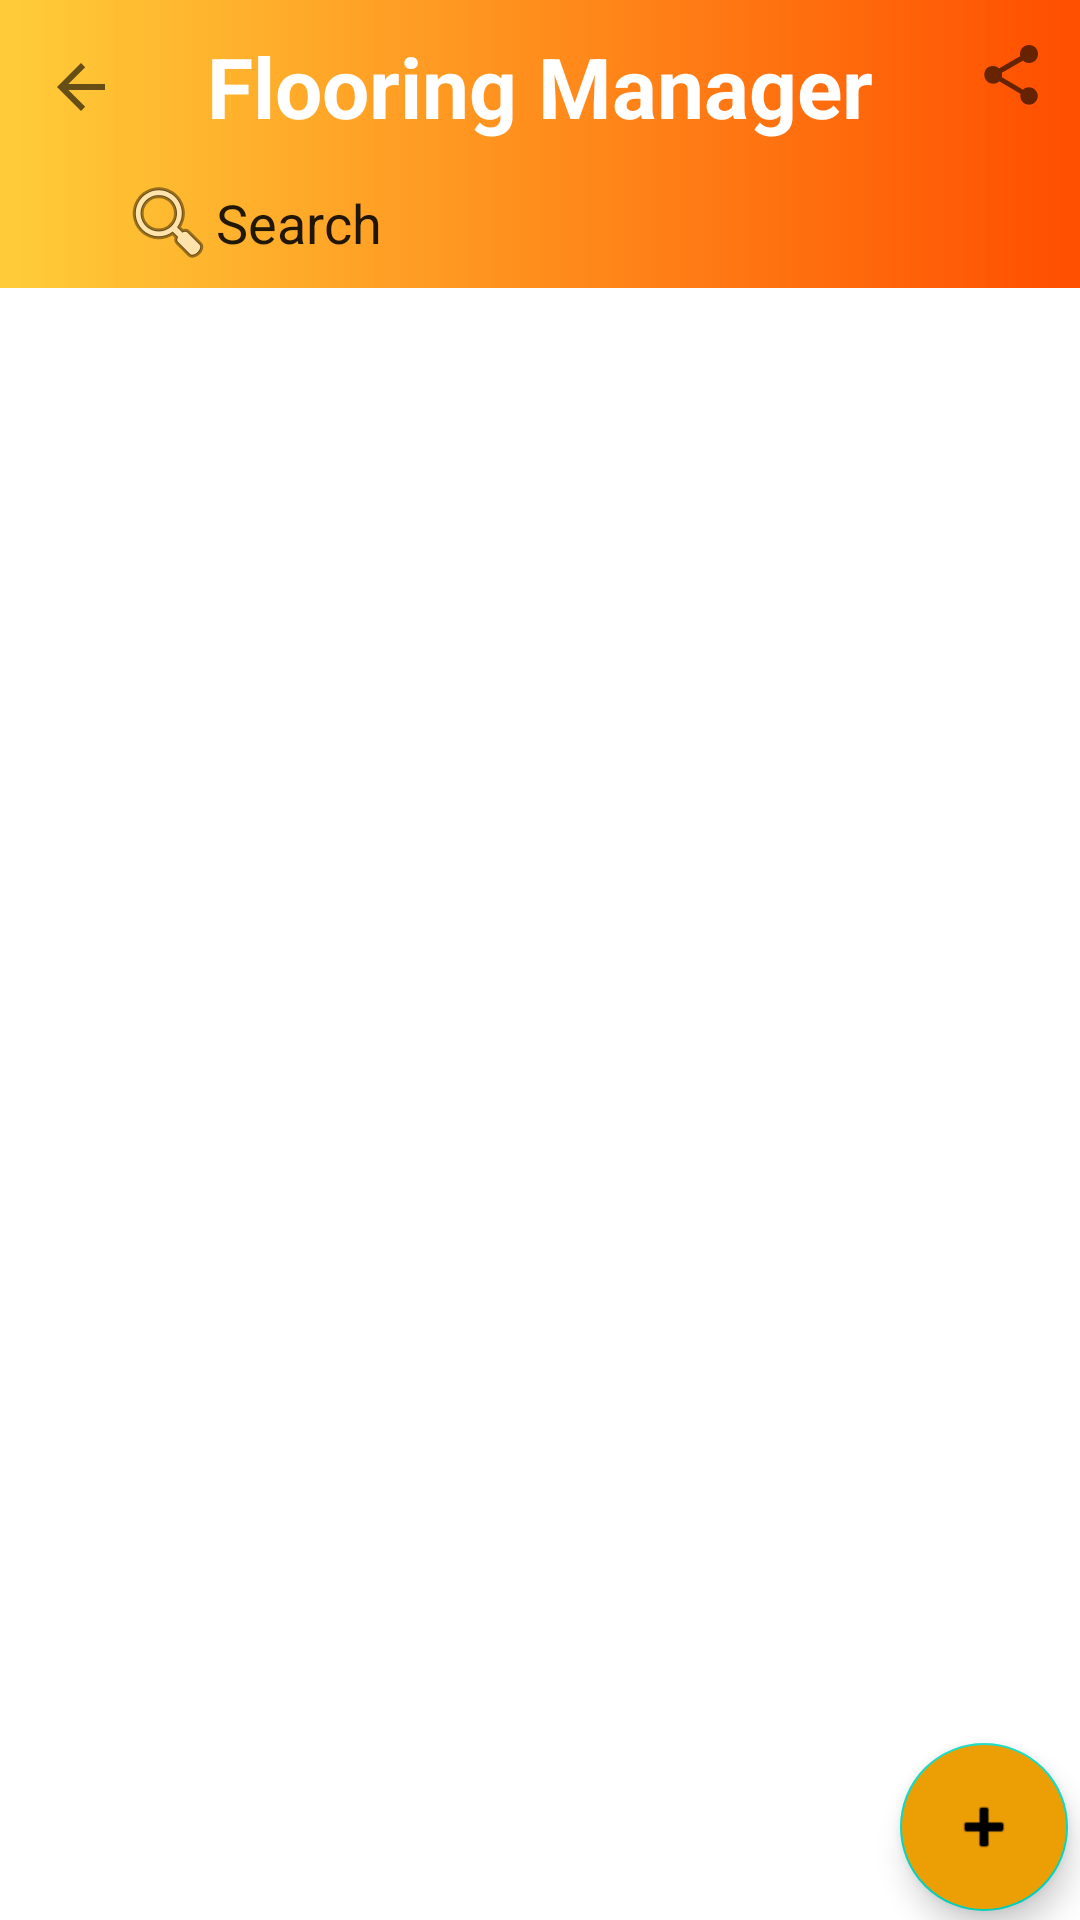

Icon bounding boxes for this 1080*1920 phone screenshot, format bbox=[x1, y1, x2, y2]:
add: bbox=[900, 1743, 1068, 1911]
